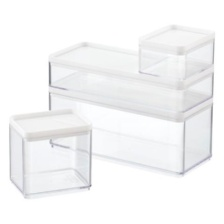plastic_box: (43, 34, 220, 182), (0, 102, 101, 203), (133, 19, 218, 84)
